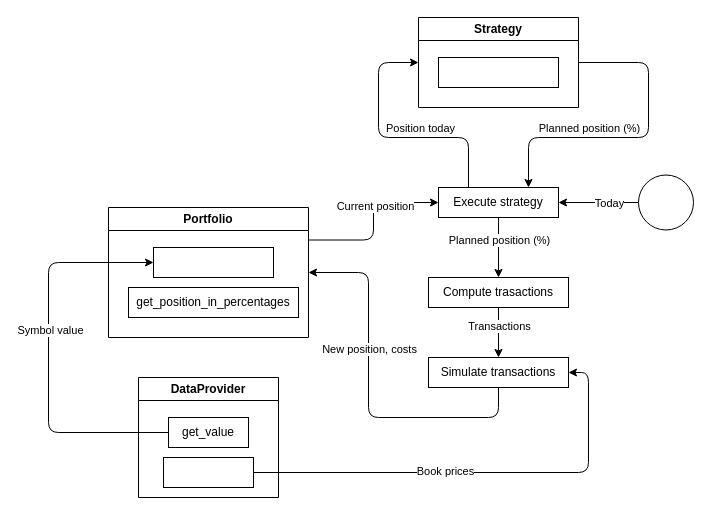
The diagram is 711 pixels wide and 515 high, and some of its shapes have lost their labels. Each missing label, with the centre of its shape:
"compute" belongs at point (498, 72).
"get_book" belongs at point (208, 472).
"get_position_value" belongs at point (213, 262).
"Iteration" belongs at point (666, 202).
